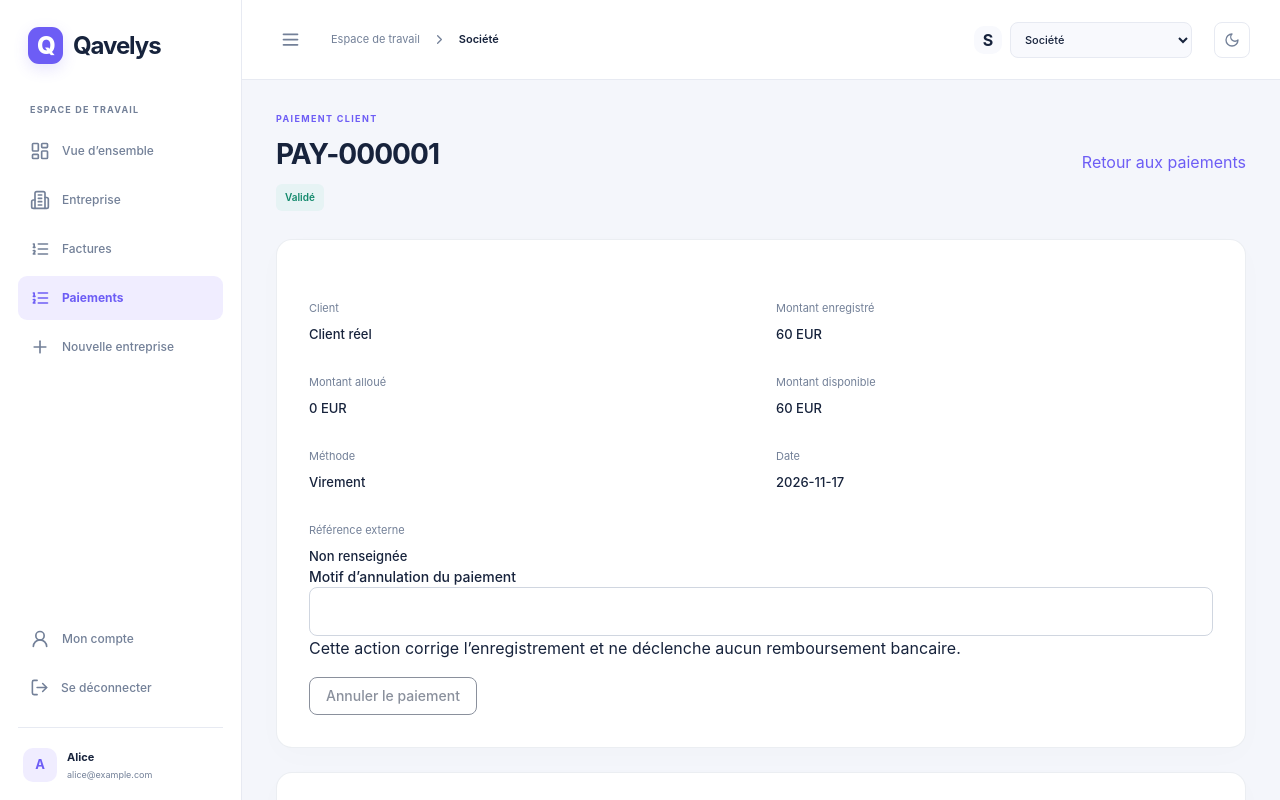
Scenario: Paiements et export connectés › exige un motif avant l’annulation d’un paiement validé non alloué
Expected: the button "Annuler le paiement" is disabled, 309,677 -> 477,715
Type "Erreur de saisie" into the field labelled "Motif d’annulation du paiement".
click(761, 612); type("Erreur de saisie")  # box 309,587 -> 1213,636
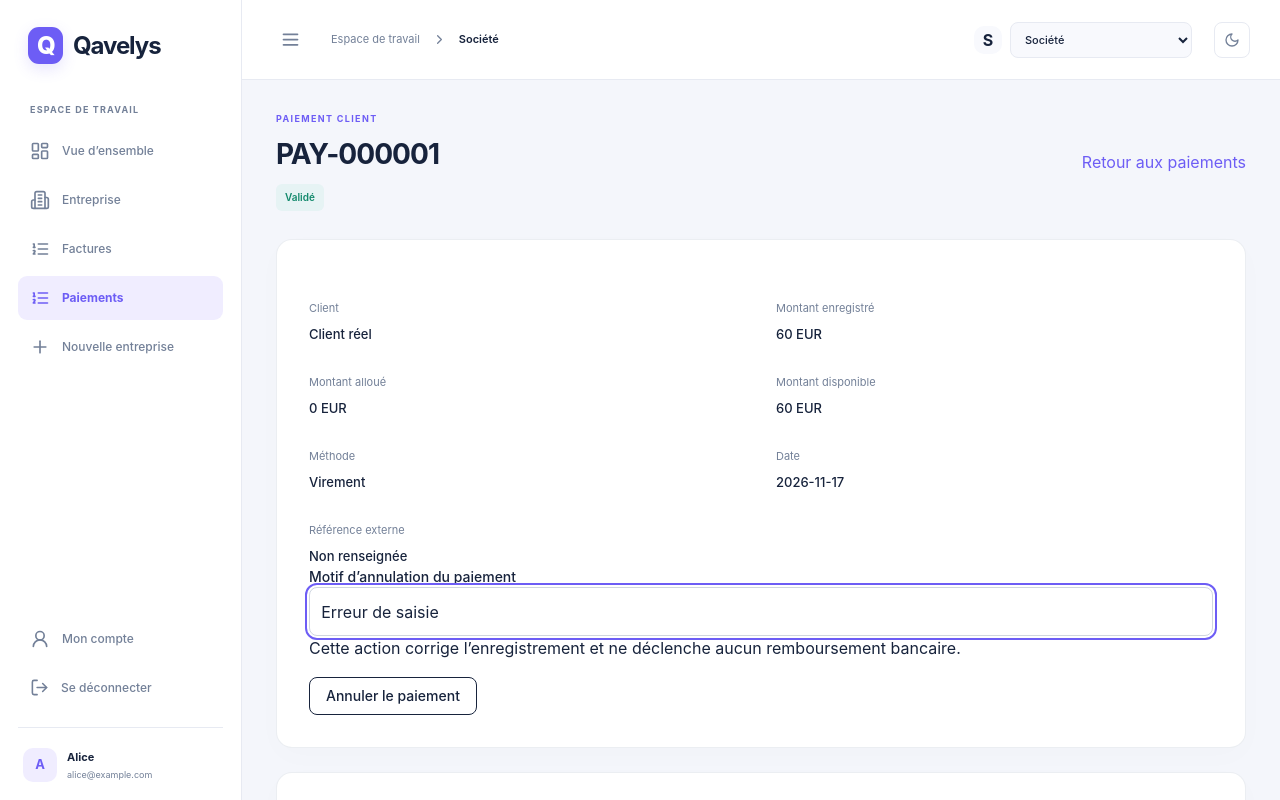
Click the button "Annuler le paiement".
click(393, 696)  # box 309,677 -> 477,715
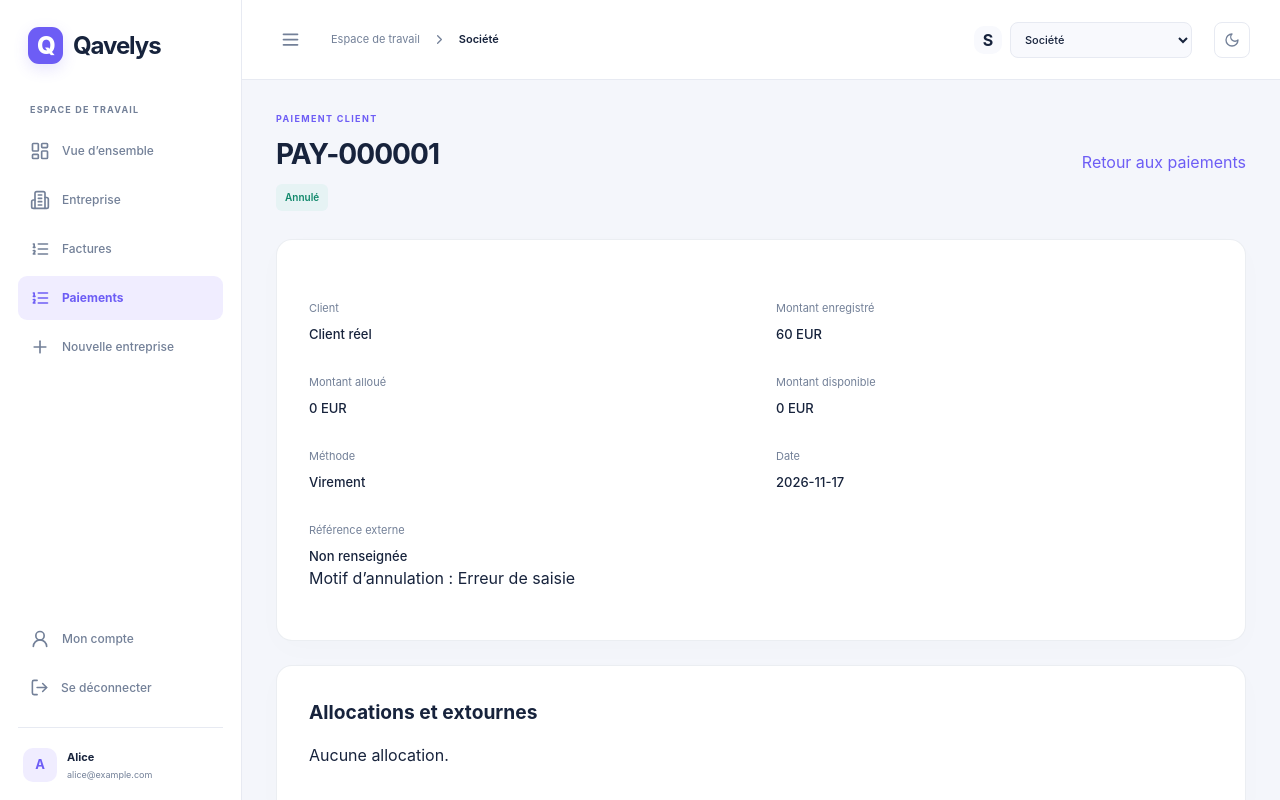
Expected: the text "Annulé" is shown, 276,184 -> 328,211
